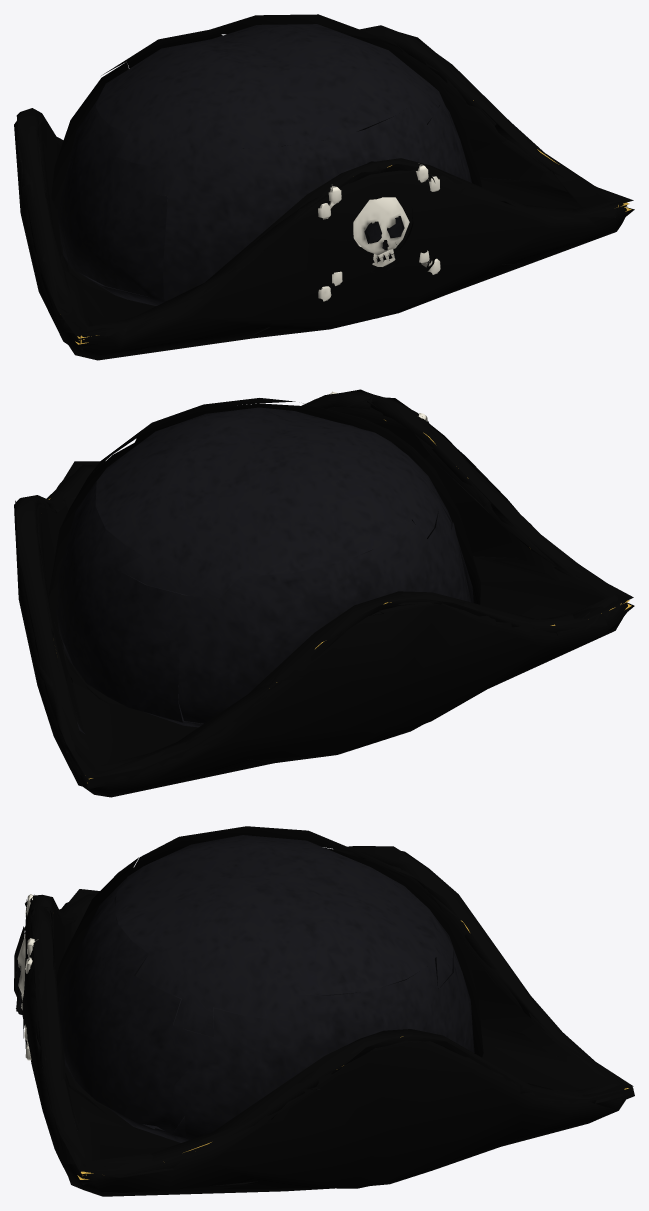
Rendered from hat_tricorn_male_lo.glb.
The picture shows the model from 3 angles, top to bottom: view 1: azimuth 30°, elevation 25°; view 2: azimuth 150°, elevation 25°; view 3: azimuth 270°, elevation 25°; orthographic projection. The views are drawn at different scales.
Visible parts, largest first — view 1: hat_tricorn_hi_v5_male; view 2: hat_tricorn_hi_v5_male; view 3: hat_tricorn_hi_v5_male.
Boxes of the visible parts, left/top/right/bottom form: hat_tricorn_hi_v5_male: left=14, top=14, right=634, bottom=360; hat_tricorn_hi_v5_male: left=14, top=389, right=634, bottom=797; hat_tricorn_hi_v5_male: left=14, top=826, right=634, bottom=1196.
Bounding box in the file's own units: 0.8808 × 0.3777 × 0.8159.
1 material, 1 textured.
